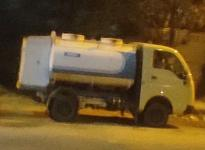Truck: (14, 30, 194, 129)
